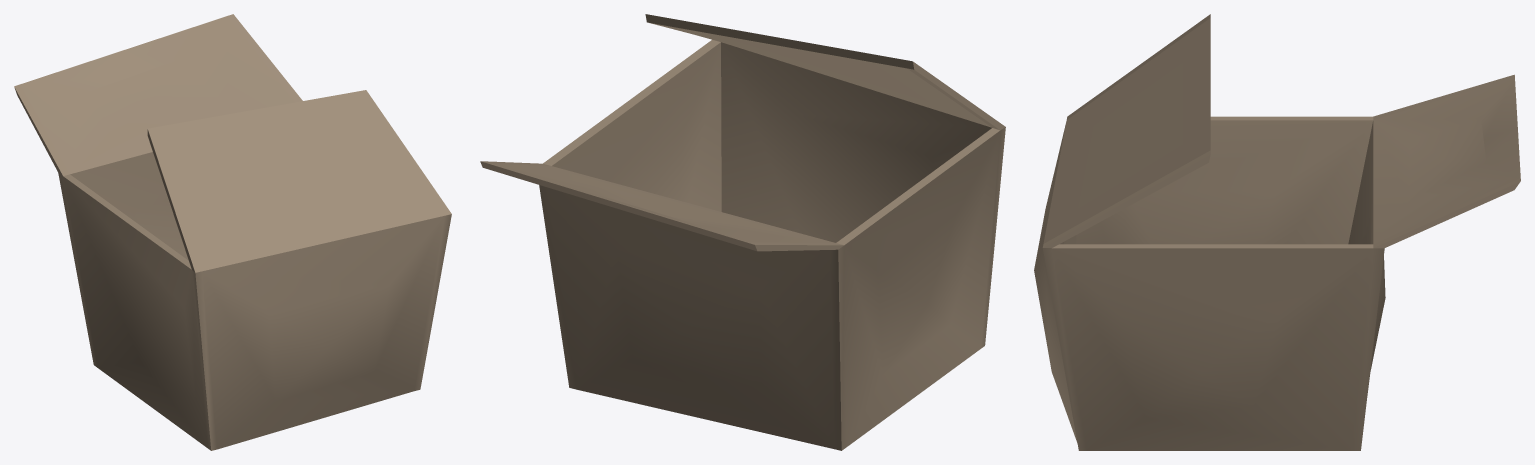
The model's file is CardboardBox.fbx.
3 views of the same model, side by side, from view 1: azimuth 30°, elevation 25°; view 2: azimuth 150°, elevation 25°; view 3: azimuth 270°, elevation 25° (orthographic). The views are drawn at different scales.
Parts seen in each view (by area): view 1: pCube1; view 2: pCube1; view 3: pCube1.
Boxes of the visible parts, x1,y1,x2,y2 form: pCube1: (14,14,451,450); pCube1: (480,14,1005,450); pCube1: (1034,14,1520,450).
Bounding box in the file's own units: 1.02 × 1.08 × 1.48.
